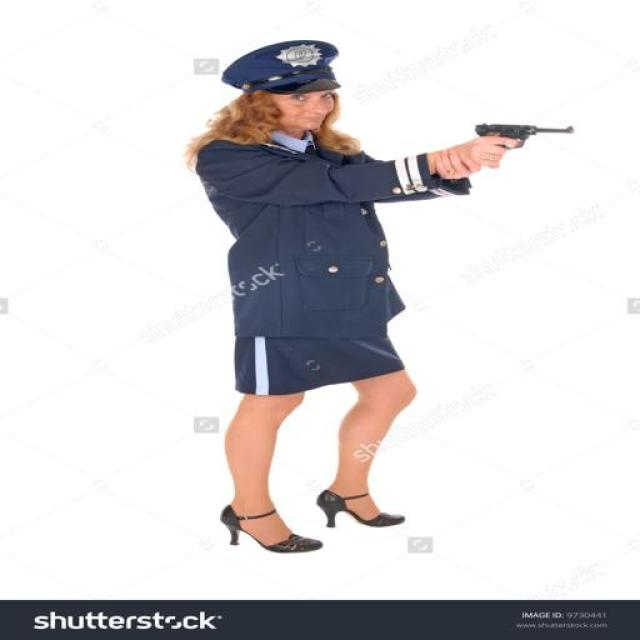pistol: (475, 122, 576, 150)
